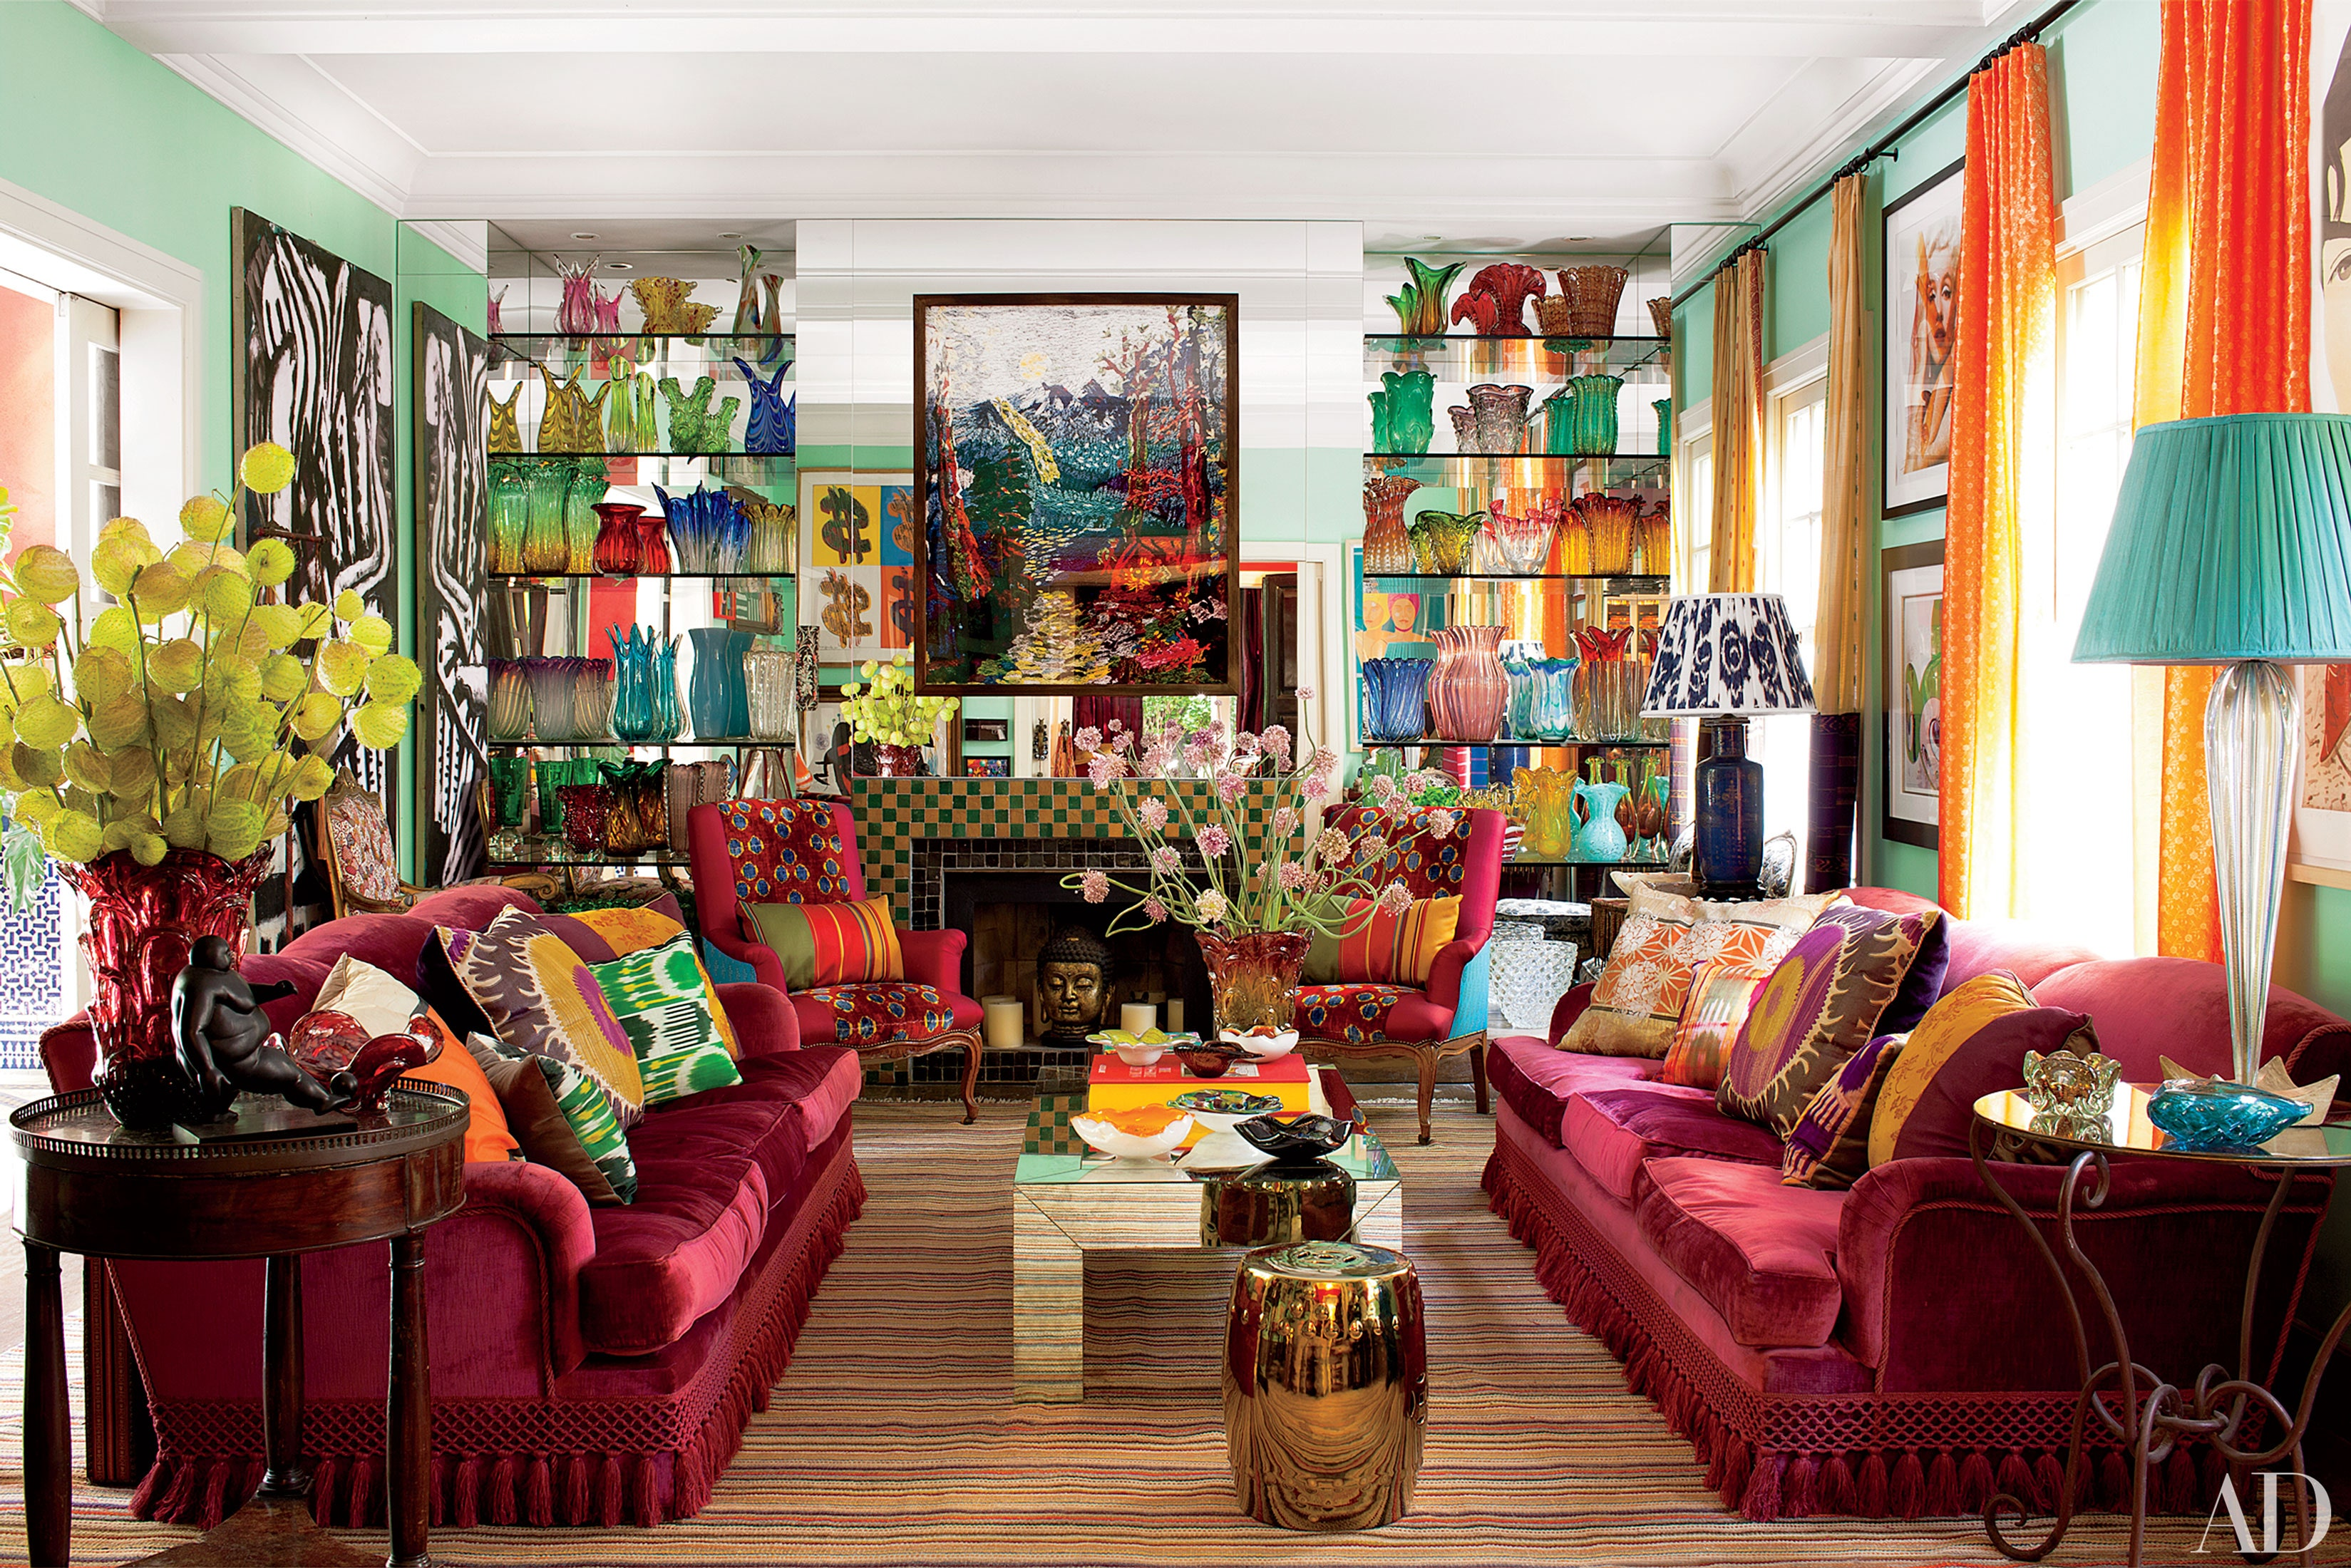biru: (1698, 723, 1775, 884), (2155, 1076, 2298, 1144), (602, 623, 660, 742), (688, 626, 737, 742), (1581, 781, 1628, 864)
coklat: (5, 1097, 471, 1568), (1985, 1088, 2351, 1568)
hijau: (2102, 425, 2351, 670)
kuning: (1523, 768, 1576, 857)
merah: (1491, 896, 2227, 1494), (471, 1006, 832, 1445), (695, 798, 986, 1043)
